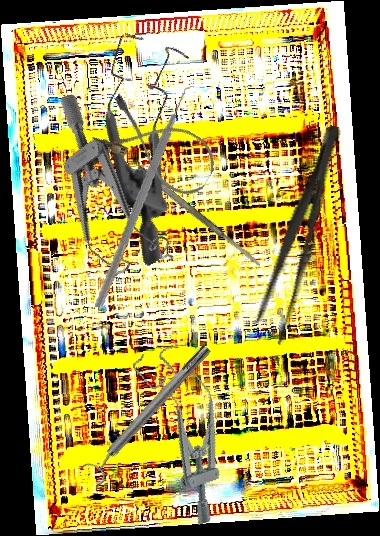Cannula: (90, 90, 225, 203)
Chopper: (60, 83, 241, 308)
Dressing Forceps: (248, 120, 353, 347)
Fixation Ring: (77, 338, 220, 488)
Spatula Surgical: (135, 163, 263, 270)
Speculum: (33, 11, 273, 268), (4, 90, 190, 298), (130, 337, 248, 530)
